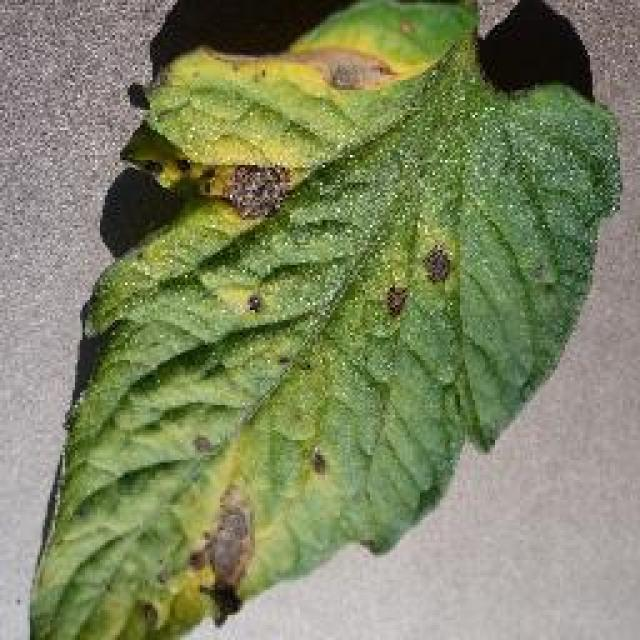Tomato___Early_blight: (25, 0, 629, 638)
